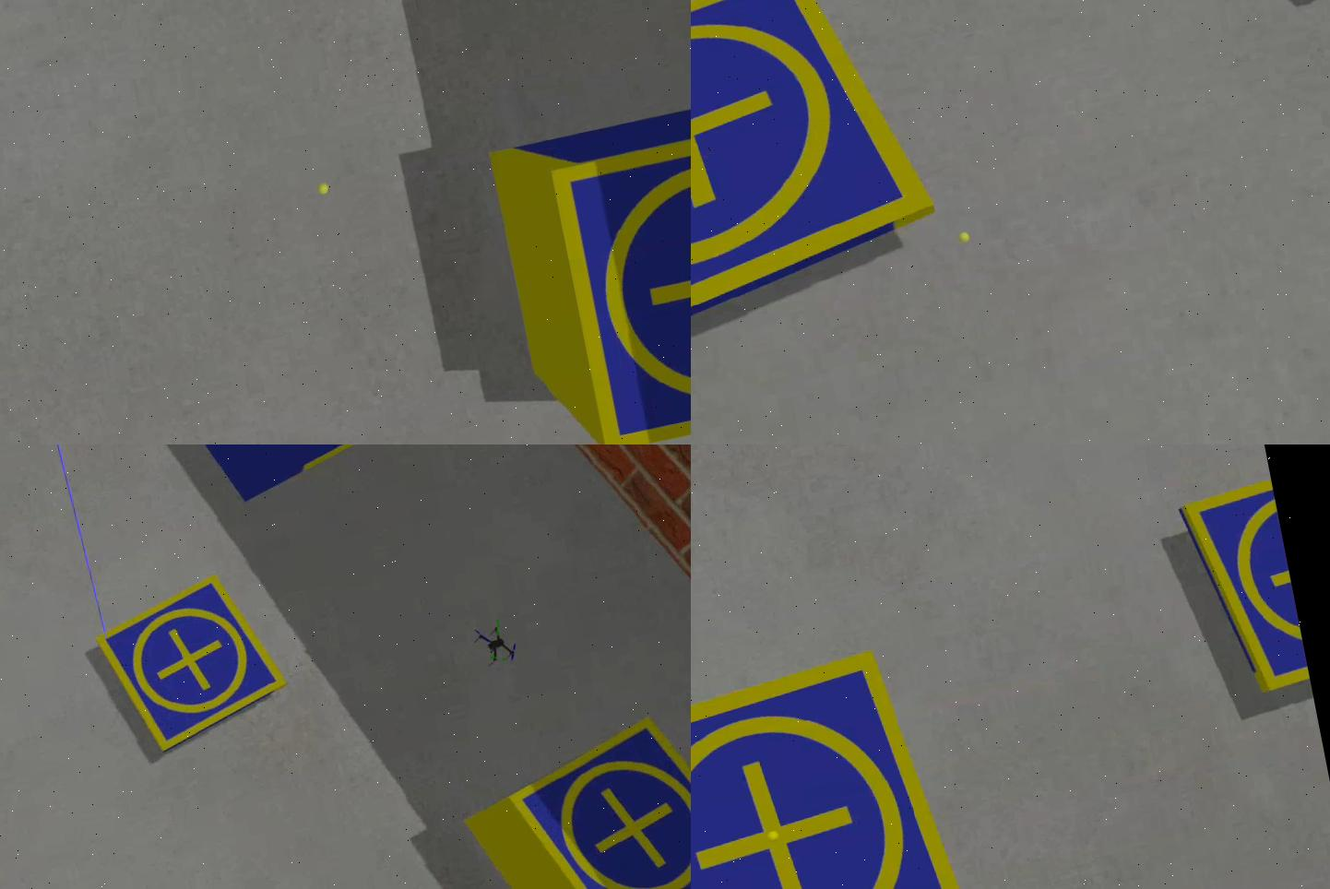large_base: (150, 445, 494, 516)
small_base: (692, 1, 956, 391), (692, 645, 992, 889), (549, 109, 692, 445), (87, 569, 296, 763), (502, 705, 692, 889), (1176, 476, 1312, 710)
